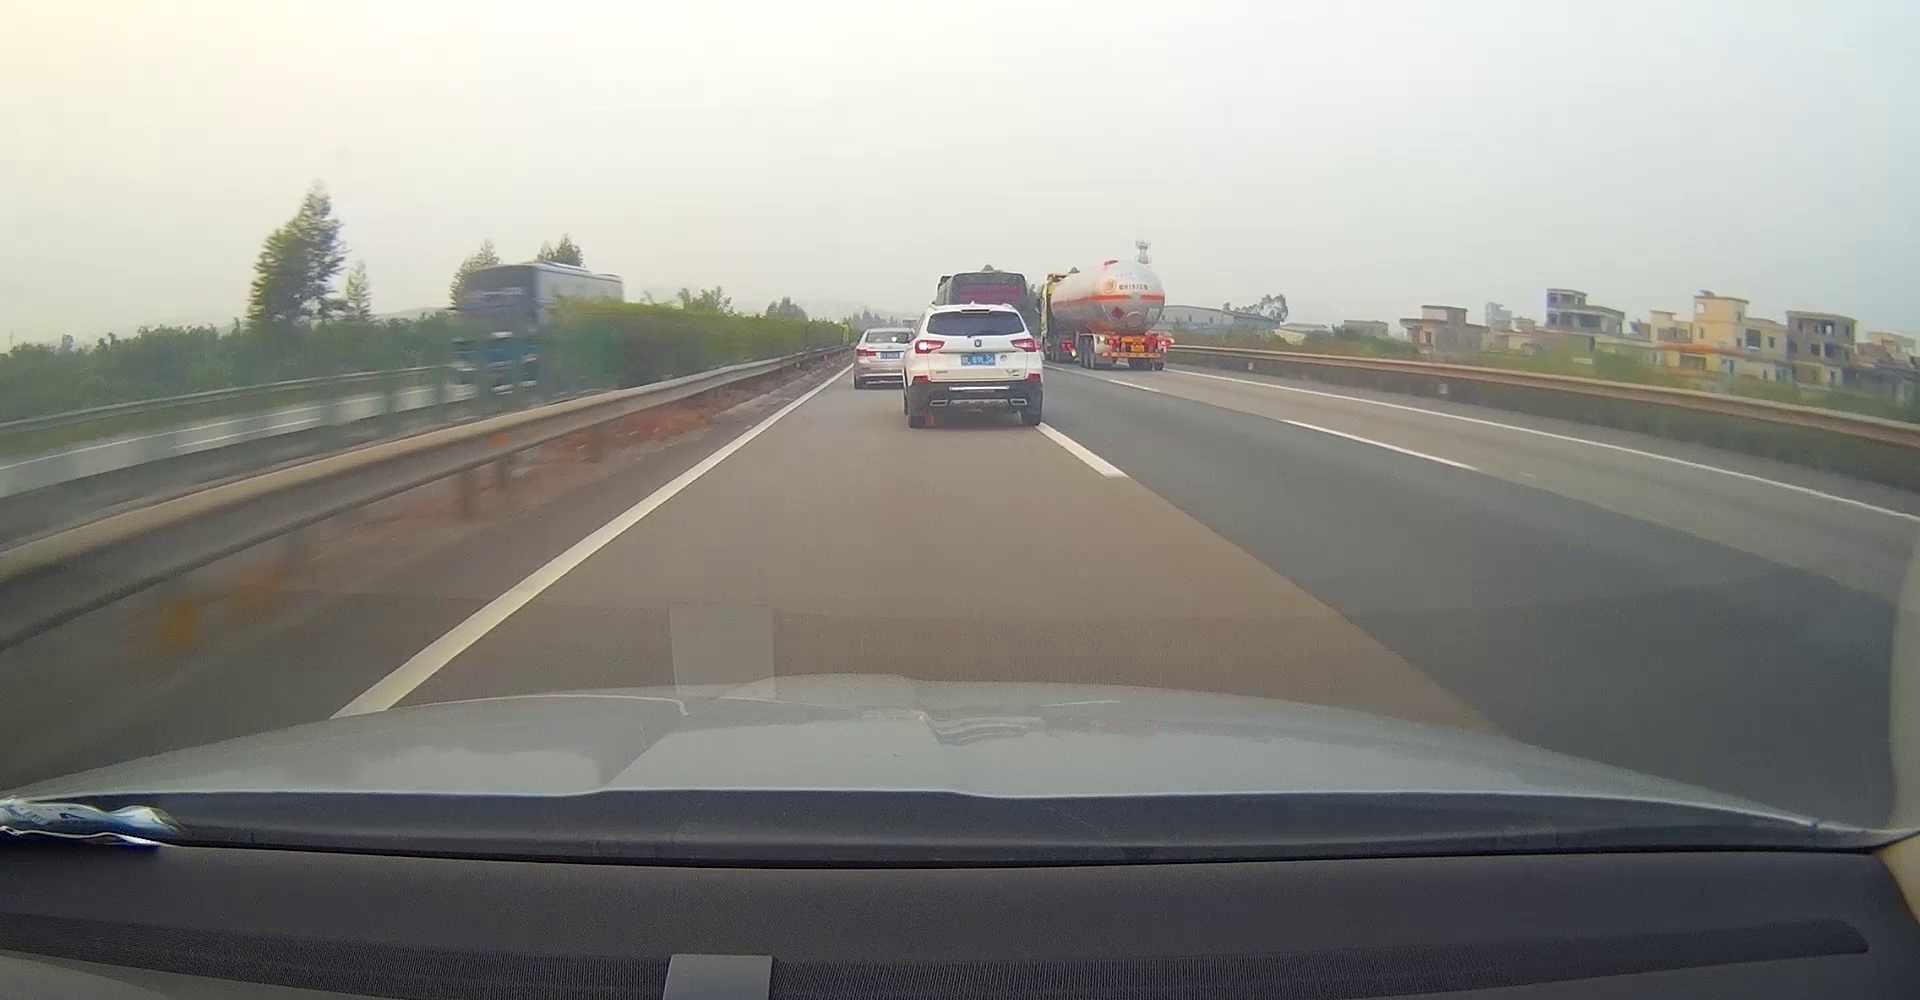L_light: (914, 339, 946, 354), (1105, 338, 1116, 346)
R_light: (1011, 338, 1037, 352), (1158, 340, 1170, 346)
T_light: (961, 308, 990, 313), (1131, 332, 1142, 336)
day-brake: (905, 305, 1043, 428)
day-no: (1092, 332, 1171, 371)
